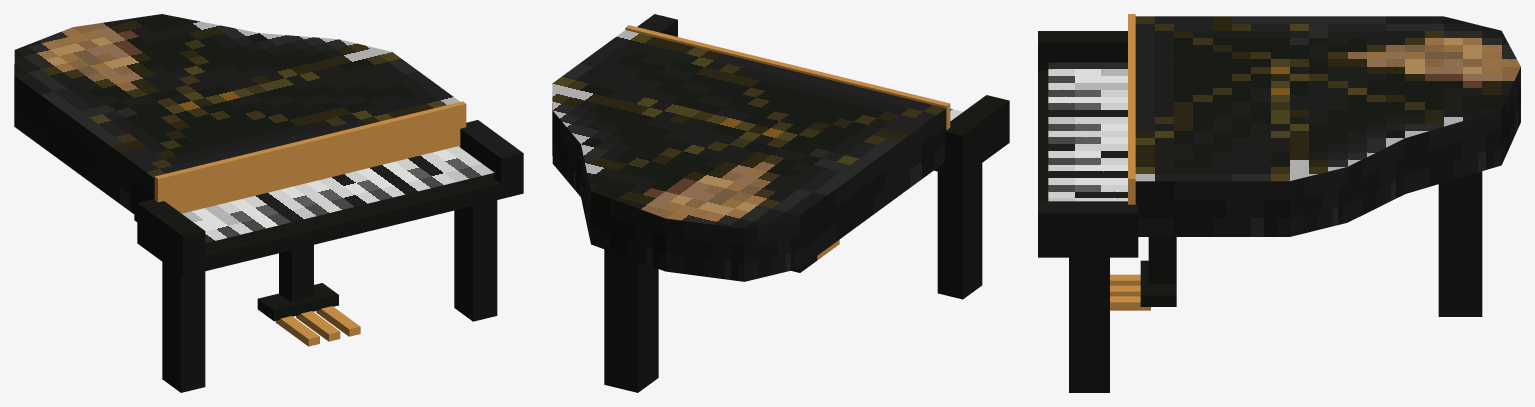
The model's file is piano_broken.glb.
3 views of the same model, side by side, from view 1: azimuth 30°, elevation 25°; view 2: azimuth 150°, elevation 25°; view 3: azimuth 270°, elevation 25° (orthographic). The views are drawn at different scales.
Parts seen in each view (by area): view 1: Piano_Soundboard.001, Piano_Base.001, Keyboard_Gold_Rail.001, Keyboard.001, Pedal_Lyre.002, Pedal.005, Pedal.004, Pedal.003; view 2: Piano_Soundboard.001, Piano_Base.001, Keyboard_Gold_Rail.001; view 3: Piano_Soundboard.001, Piano_Base.001, Keyboard.001, Pedal_Lyre.002, Keyboard_Gold_Rail.001, Pedal.005.
Boxes of the visible parts, x1,y1,x2,y2 form: Piano_Soundboard.001: (14, 14, 459, 216); Piano_Base.001: (134, 120, 523, 392); Keyboard_Gold_Rail.001: (154, 101, 466, 213); Keyboard.001: (182, 146, 494, 251); Pedal_Lyre.002: (257, 245, 338, 321); Pedal.005: (316, 306, 360, 336); Pedal.004: (296, 311, 340, 341); Pedal.003: (275, 316, 319, 346); Piano_Soundboard.001: (552, 30, 946, 281); Piano_Base.001: (604, 14, 1009, 392); Keyboard_Gold_Rail.001: (625, 25, 950, 130); Piano_Soundboard.001: (1135, 16, 1520, 236); Piano_Base.001: (1038, 31, 1482, 392); Keyboard.001: (1048, 62, 1127, 201); Pedal_Lyre.002: (1140, 237, 1176, 306); Keyboard_Gold_Rail.001: (1128, 14, 1135, 204); Pedal.005: (1110, 296, 1150, 310).
Size of the model in its own units: 1.68 by 0.91 by 1.88.
1 material, 1 textured.
